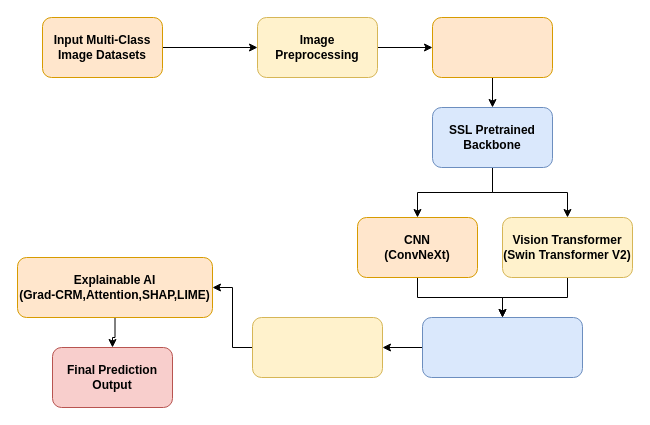
Image size: 650x425. Some labels were removed from this diagram. The centre of each missing label's shape, as x and y in pixels:
"Adaptive Cross-Attention Feature Fusion" goes at point 502,347.
"Multi-Class Classification Head Prediction" goes at point 317,347.
"Self-Supervised Learning(SSL) (DINOv2)" goes at point 492,47.
